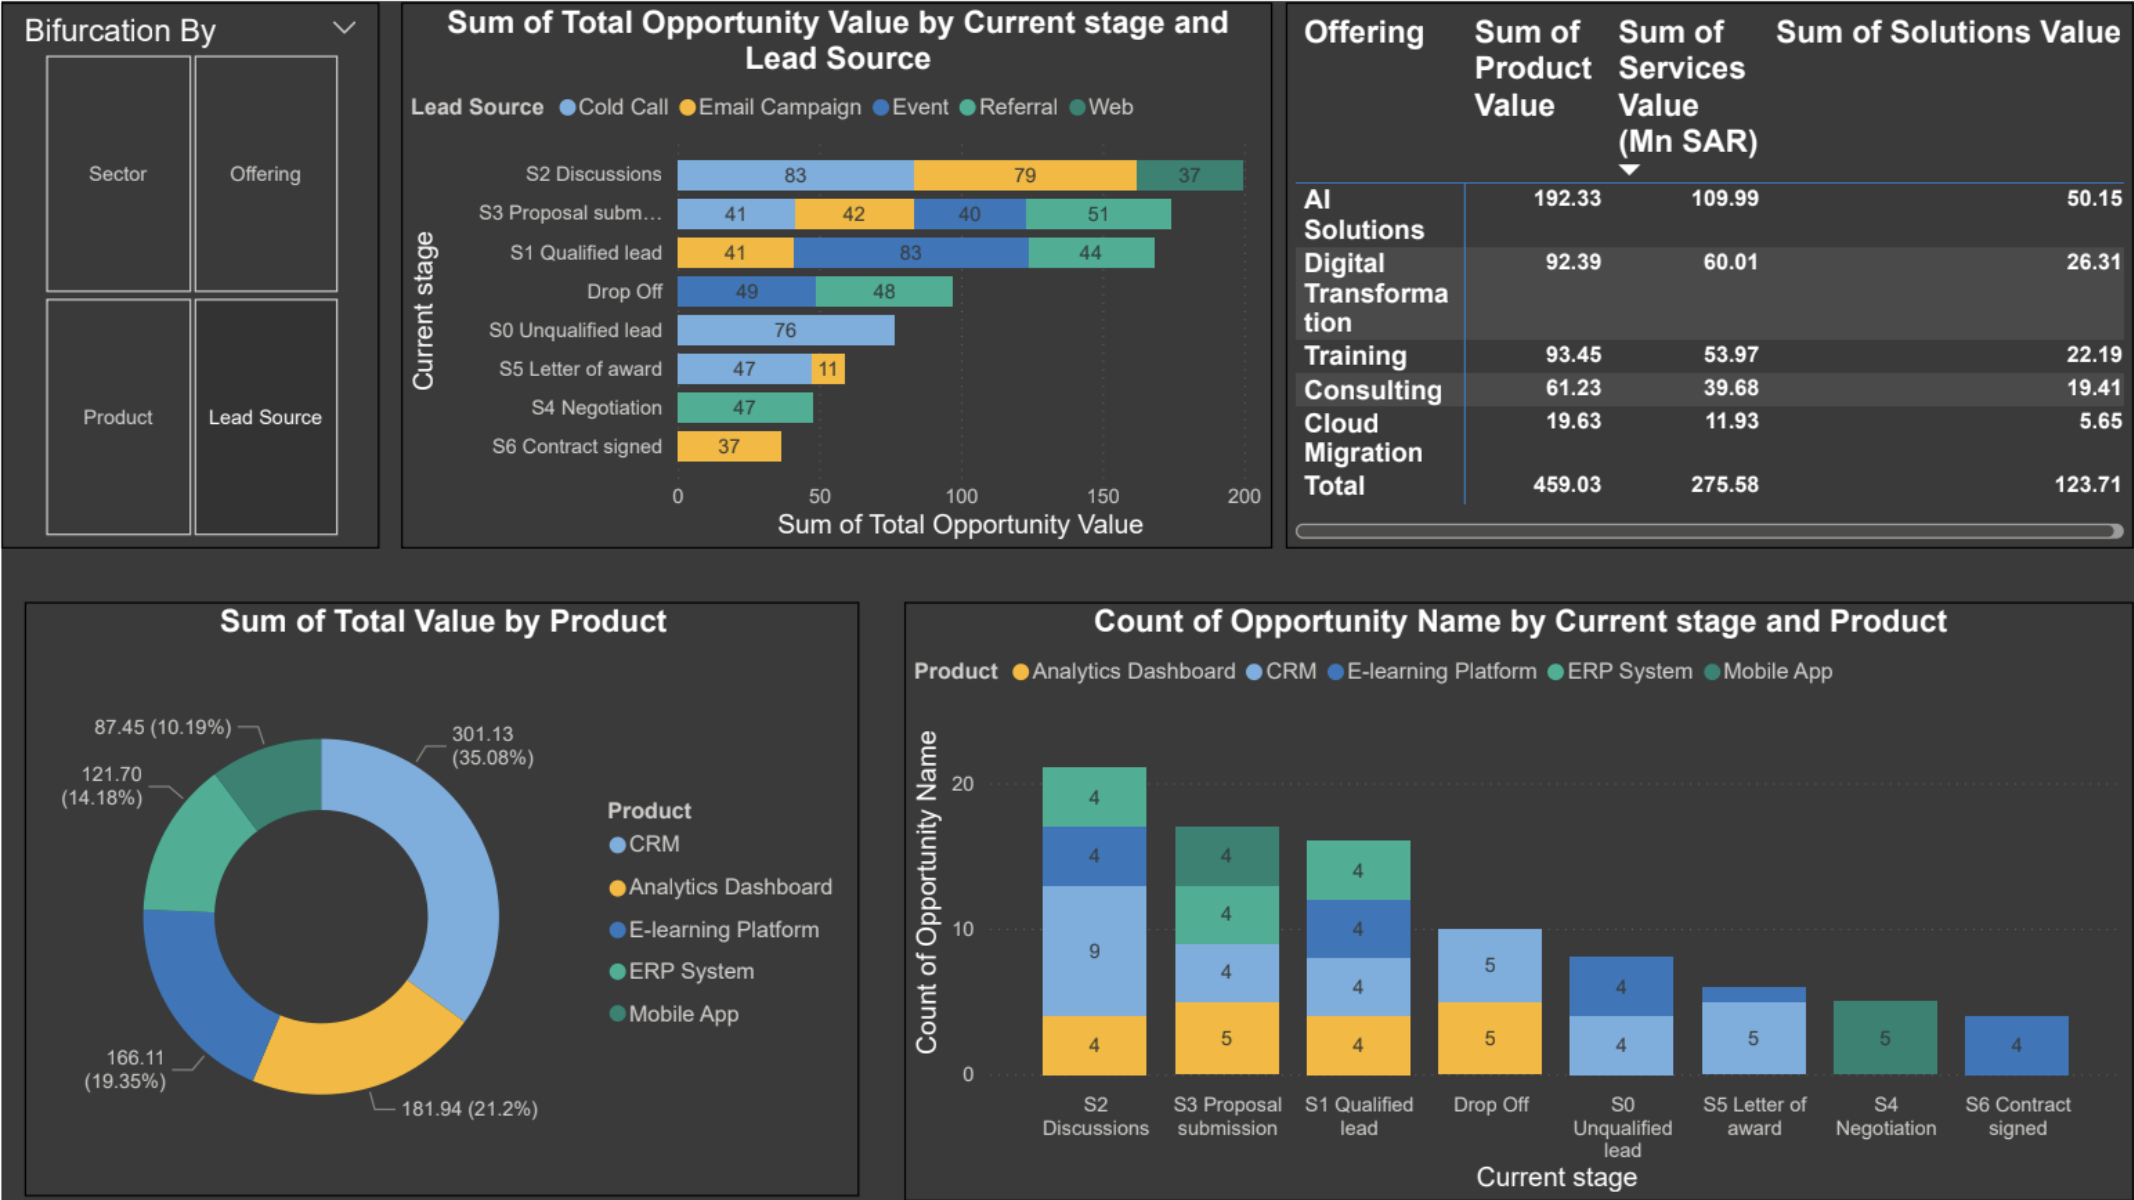

What the dashboard file says about the page in this screenshot:
{"tool":"powerbi","page":{"name":"Product and Offering Performance","canvas":[1280,720],"ordinal":1},"visuals":[{"type":"pivotTable","fields":{"Rows":["Sales Pipeline Stages  (Data).Offering"],"Values":["Sum(Sales Pipeline Stages  (Data).Product Value)","Sum(Sales Pipeline Stages  (Data).Services Value (Mn SAR))","Sum(Sales Pipeline Stages  (Data).Solutions Value)"]},"box":[771.2,0,508.8,328],"z":0},{"type":"columnChart","fields":{"Category":["Sales Pipeline Stages  (Data).Current stage"],"Y":["CountNonNull(Sales Pipeline Stages  (Data).Opportunity Name)"],"Series":["Sales Pipeline Stages  (Data).Product"]},"box":[542.2,360.2,737.8,360.2],"z":1000},{"type":"donutChart","fields":{"Category":["Sales Pipeline Stages  (Data).Product"],"Y":["Sum(Sales Pipeline Stages  (Data).Total Value)"]},"box":[13.6,360.2,501.4,356.5],"z":2000},{"type":"slicer","fields":{"Values":["Bifurcation  By.Bifurcation  By"]},"box":[0,0,226.5,328],"z":3000},{"type":"barChart","fields":{"Series":["Sales Pipeline Stages  (Data).Lead Source"],"Category":["Sales Pipeline Stages  (Data).Current stage"],"Y":["Sum(Sales Pipeline Stages  (Data).Total Opportunity Value)"]},"box":[240.2,0,522.4,328],"z":4000}]}

Visuals, with their boxes in screenshot pixels (x1, y1, x2, y2), scaled from the page's 1280x720 canvas onto the 2134x1200 screenshot:
pivotTable - Sales Pipeline Stages  (Data).Offering x Sum(Sales Pipeline Stages  (Data).Product Value): bbox=[1286, 0, 2133, 547]
columnChart - Sales Pipeline Stages  (Data).Current stage x CountNonNull(Sales Pipeline Stages  (Data).Opportunity Name): bbox=[904, 600, 2133, 1199]
donutChart - Sales Pipeline Stages  (Data).Product x Sum(Sales Pipeline Stages  (Data).Total Value): bbox=[23, 600, 859, 1195]
slicer - Bifurcation  By.Bifurcation  By: bbox=[0, 0, 378, 547]
barChart - Sales Pipeline Stages  (Data).Lead Source x Sales Pipeline Stages  (Data).Current stage: bbox=[400, 0, 1271, 547]
